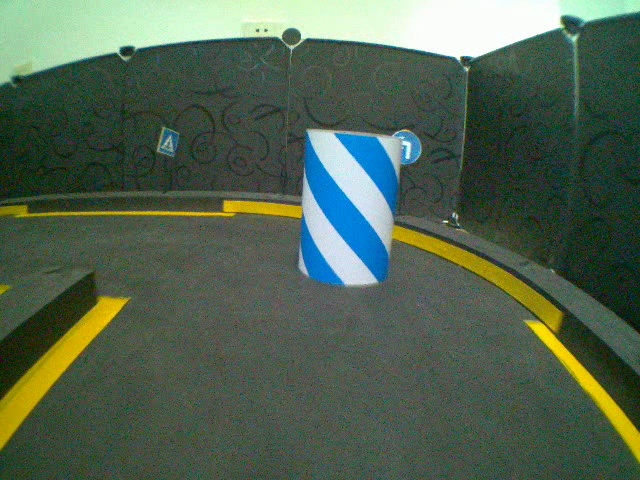bucket: (298, 126, 400, 287)
